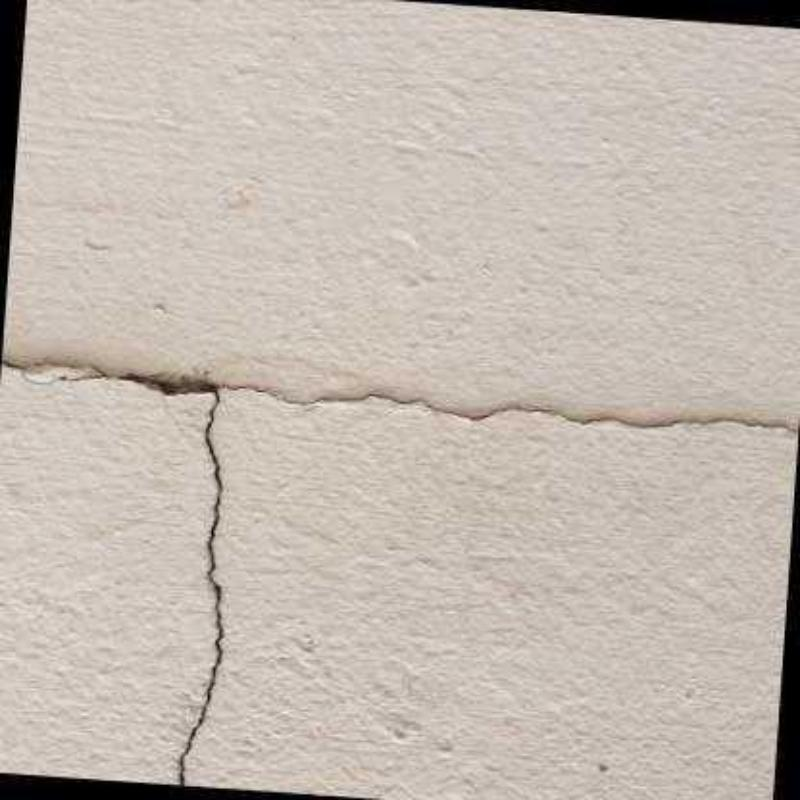crack: (2, 359, 798, 787)
